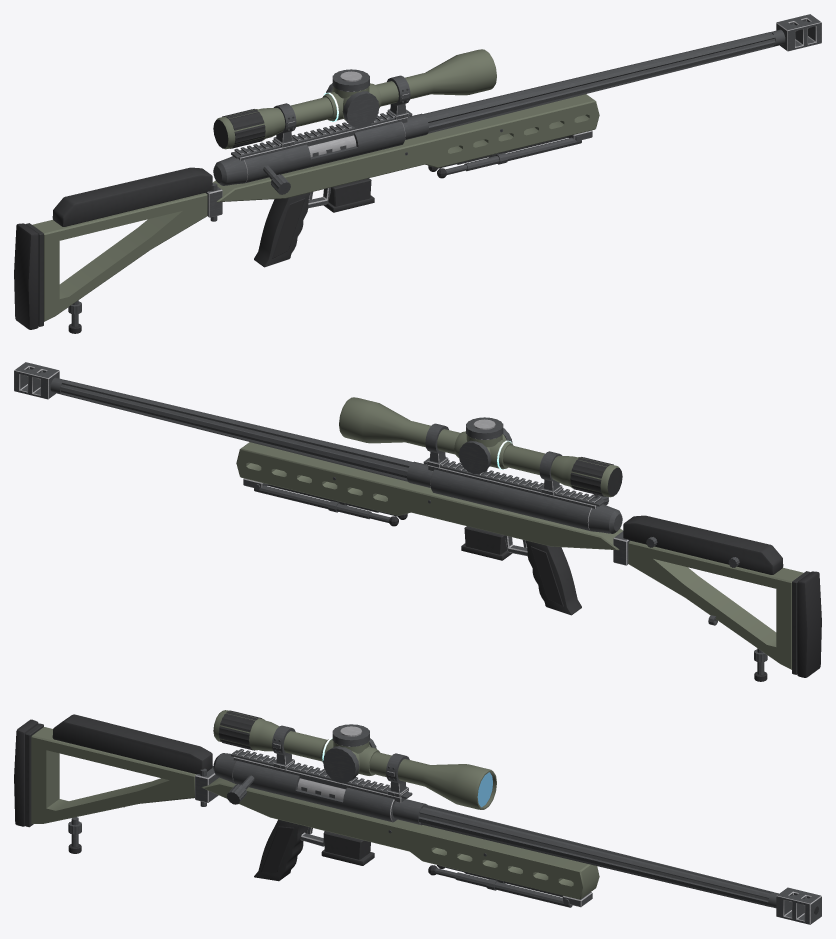
Rendered from w_sniper.glb.
3 views of the same model, one above another, from view 1: azimuth 30°, elevation 25°; view 2: azimuth 150°, elevation 25°; view 3: azimuth 330°, elevation 25° (orthographic).
Parts seen in each view (by area): view 1: W_sniper; view 2: W_sniper; view 3: W_sniper.
Boxes of the visible parts, left/top/right/bottom form: W_sniper: left=14, top=14, right=821, bottom=333; W_sniper: left=14, top=362, right=821, bottom=681; W_sniper: left=14, top=710, right=821, bottom=924.
Size of the model in its own units: 1.26 by 0.2835 by 0.1024.
Materials: 7 (3 with a texture image).
